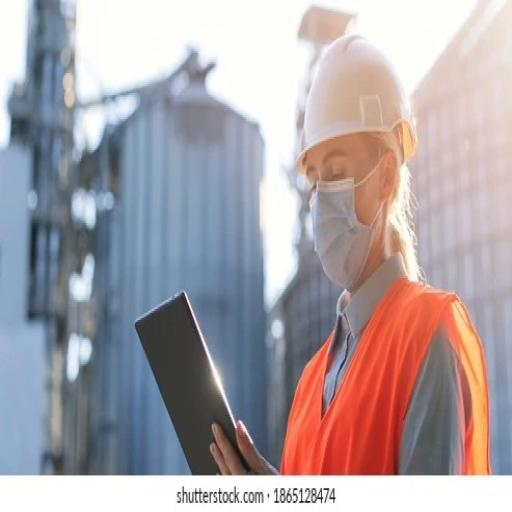mask: (302, 179, 372, 287)
